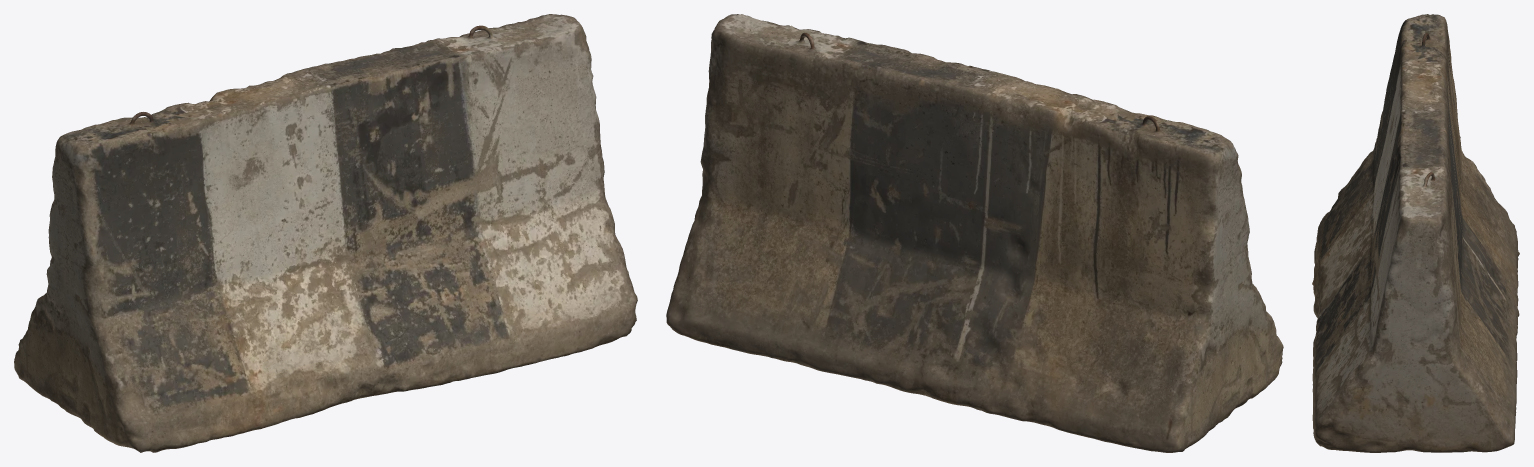
The model's file is concrete_road_barrier.glb.
The picture shows the model from 3 angles, left to right: view 1: azimuth 30°, elevation 25°; view 2: azimuth 150°, elevation 25°; view 3: azimuth 270°, elevation 25°; orthographic projection. The views are drawn at different scales.
Visible parts, largest first — view 1: concrete_road_barrier; view 2: concrete_road_barrier; view 3: concrete_road_barrier.
Part boxes in pixels (x1,y1,x2,y2): concrete_road_barrier: (14,14,637,452); concrete_road_barrier: (666,14,1283,452); concrete_road_barrier: (1312,14,1519,452).
Bounding box in the file's own units: 1.55 × 0.8311 × 0.6388.
1 material, 1 textured.
